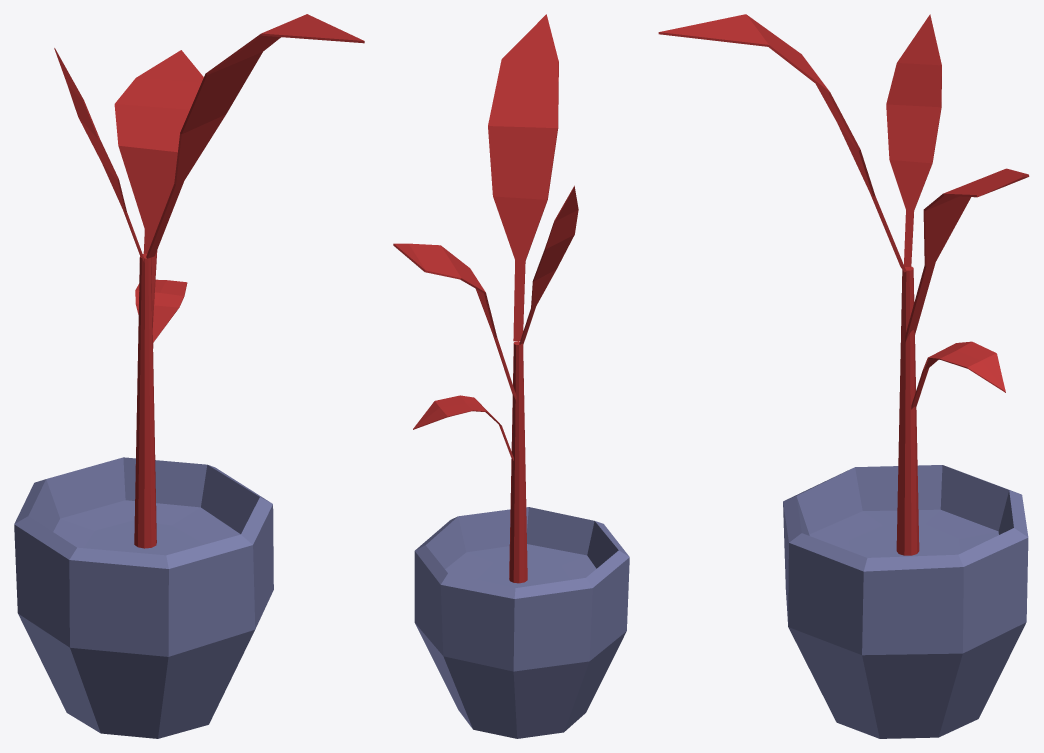
The model's file is Backyard_Flower_3.fbx.
3 views of the same model, side by side, from view 1: azimuth 30°, elevation 25°; view 2: azimuth 150°, elevation 25°; view 3: azimuth 270°, elevation 25° (orthographic). The views are drawn at different scales.
Parts seen in each view (by area): view 1: Backyard_Flower_3; view 2: Backyard_Flower_3; view 3: Backyard_Flower_3.
Part boxes in pixels (left/top/right/bottom): Backyard_Flower_3: left=14, top=14, right=364, bottom=738; Backyard_Flower_3: left=393, top=14, right=629, bottom=738; Backyard_Flower_3: left=658, top=14, right=1029, bottom=738.
Size of the model in its own units: 57.15 by 186 by 86.44.
